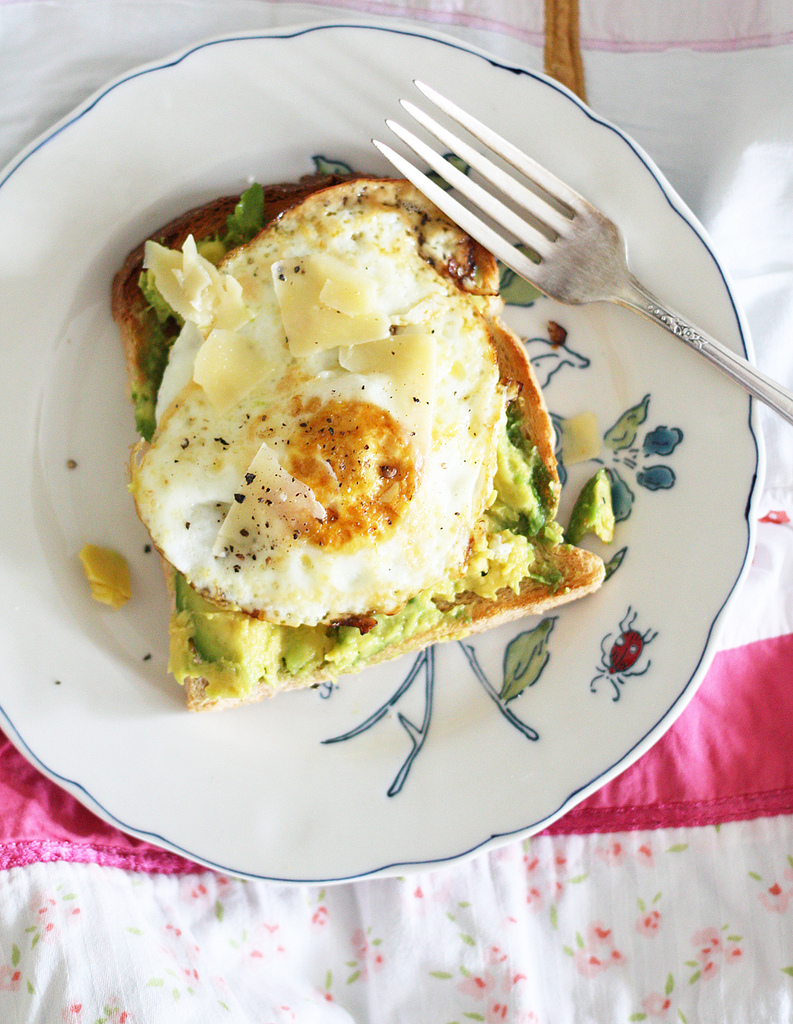fried egg: (145, 234, 479, 608)
slice of bread: (124, 157, 584, 735)
